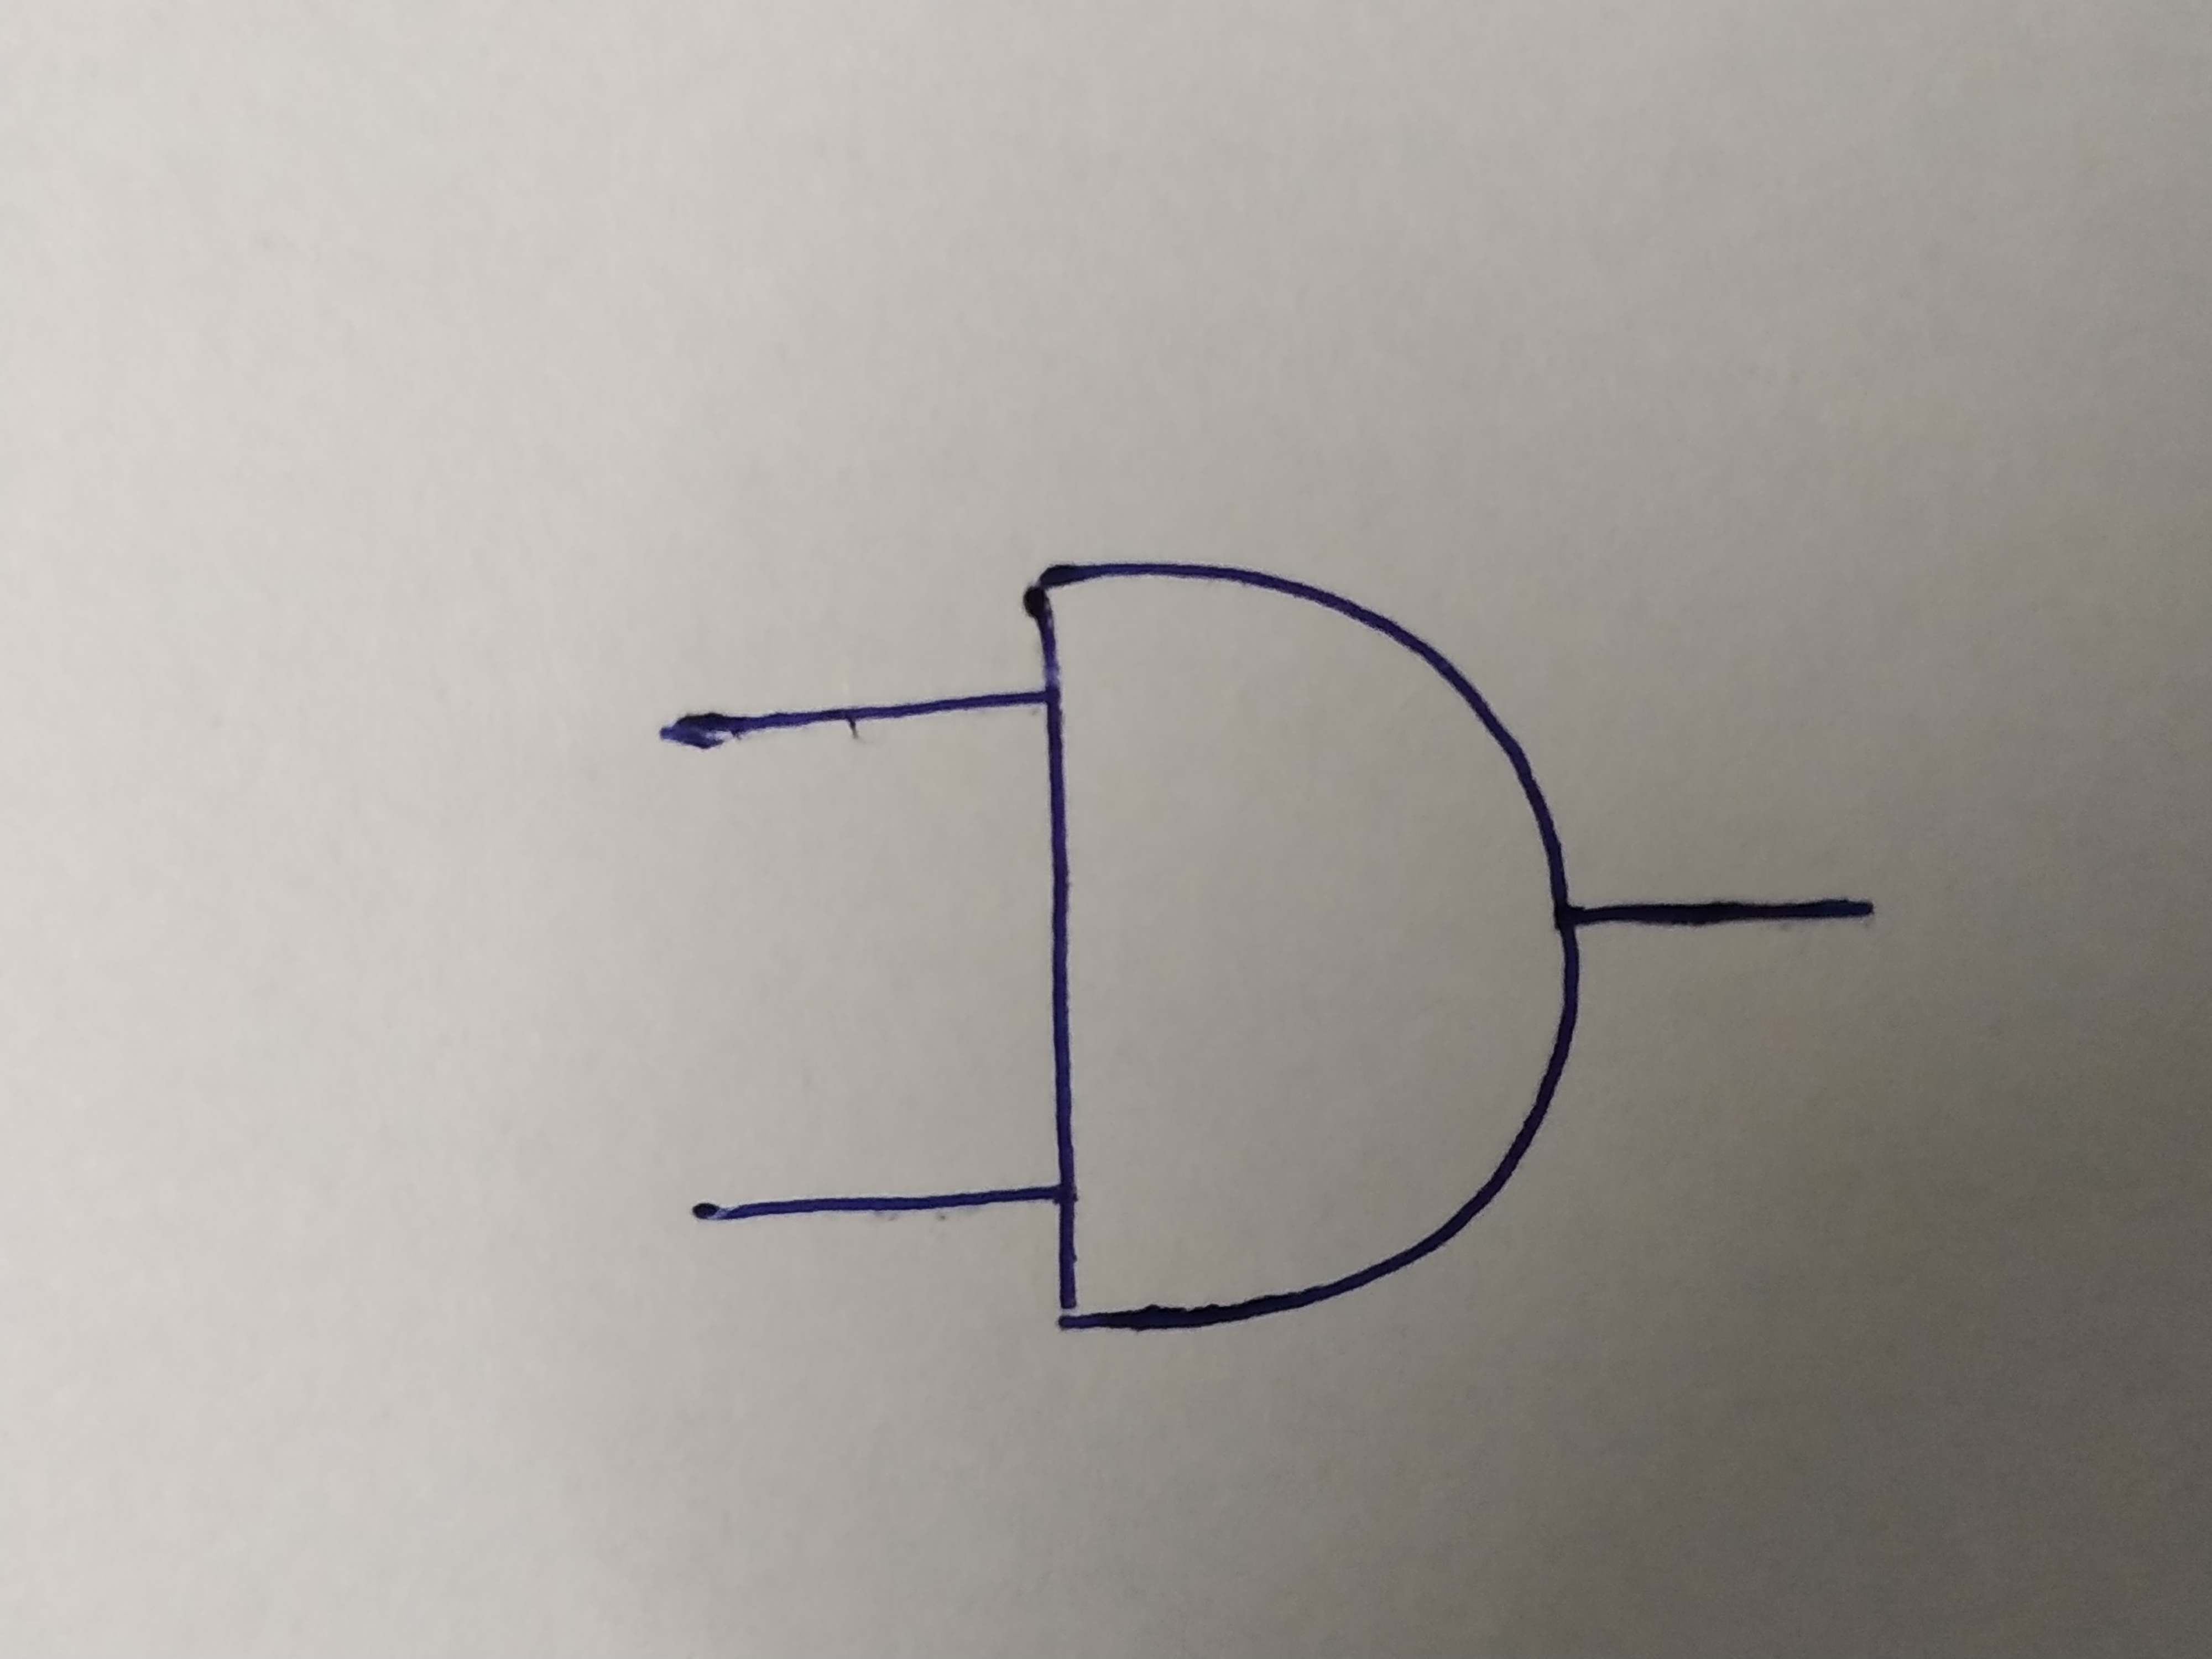and: (1035, 570, 1583, 1328)
